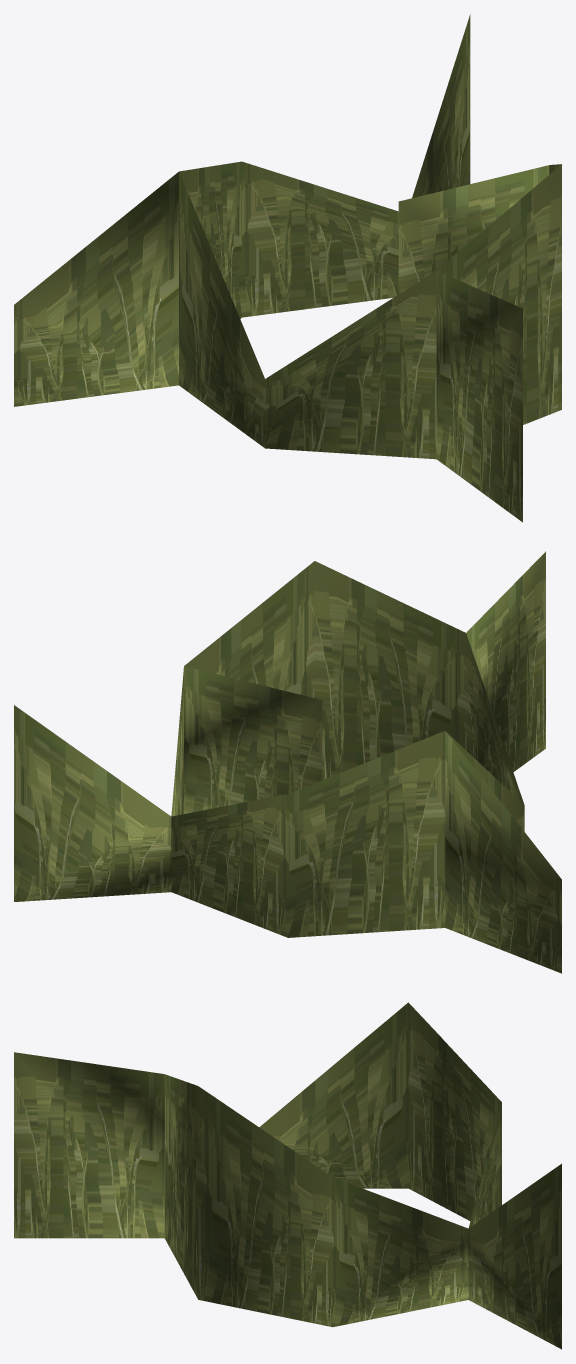
File: mveg1am.glb
3 renders of one model, top to bottom at view 1: azimuth 30°, elevation 25°; view 2: azimuth 150°, elevation 25°; view 3: azimuth 270°, elevation 25°, orthographic. The views are drawn at different scales.
Parts seen in each view (by area): view 1: _mveg1am; view 2: _mveg1am; view 3: _mveg1am.
Boxes of the visible parts, x1=… form: _mveg1am: x1=14, y1=14, x2=561, y2=522; _mveg1am: x1=14, y1=551, x2=561, y2=973; _mveg1am: x1=14, y1=1002, x2=561, y2=1349.
Bounding box in the file's own units: 4.71 × 2.1 × 4.89.
1 material, 1 textured.
